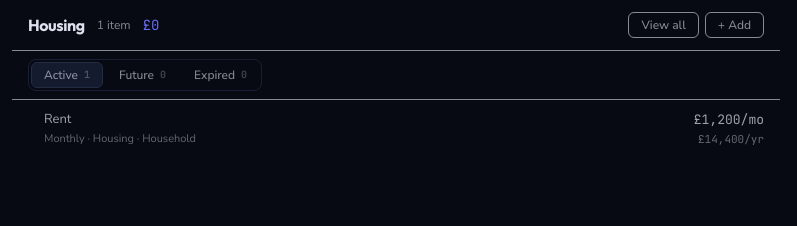
ItemArea › collapses accordion when same row is clicked again
Click the button with test id "item-row-item-rent" at (64, 138), box x1=12 y1=100 x2=780 y2=157
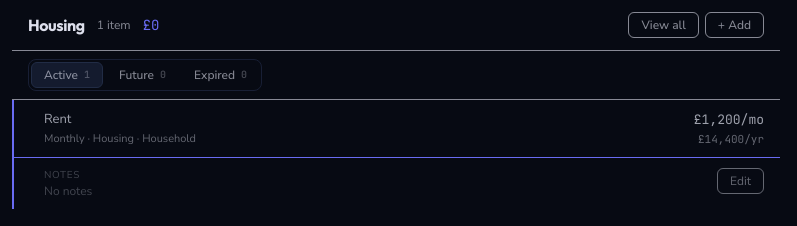
Expected: the text "Notes" is shown, x1=44 y1=168 x2=80 y2=182
Click the button with test id "item-row-item-rent" at (64, 138), box x1=12 y1=100 x2=780 y2=157
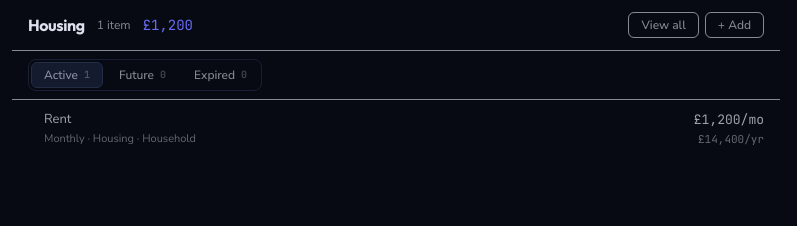
Expected: the text "Notes" is gone
